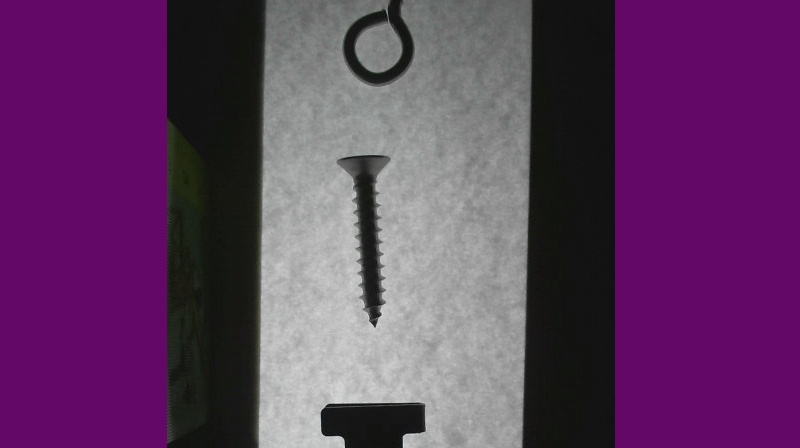O001: (338, 0, 423, 95)
O002: (314, 398, 429, 447)
S001: (334, 153, 395, 328)
